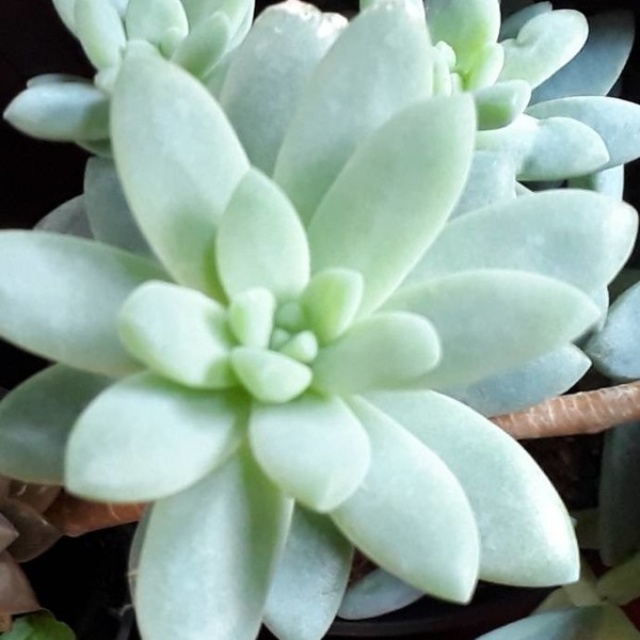obstacle: (38, 29, 595, 608)
